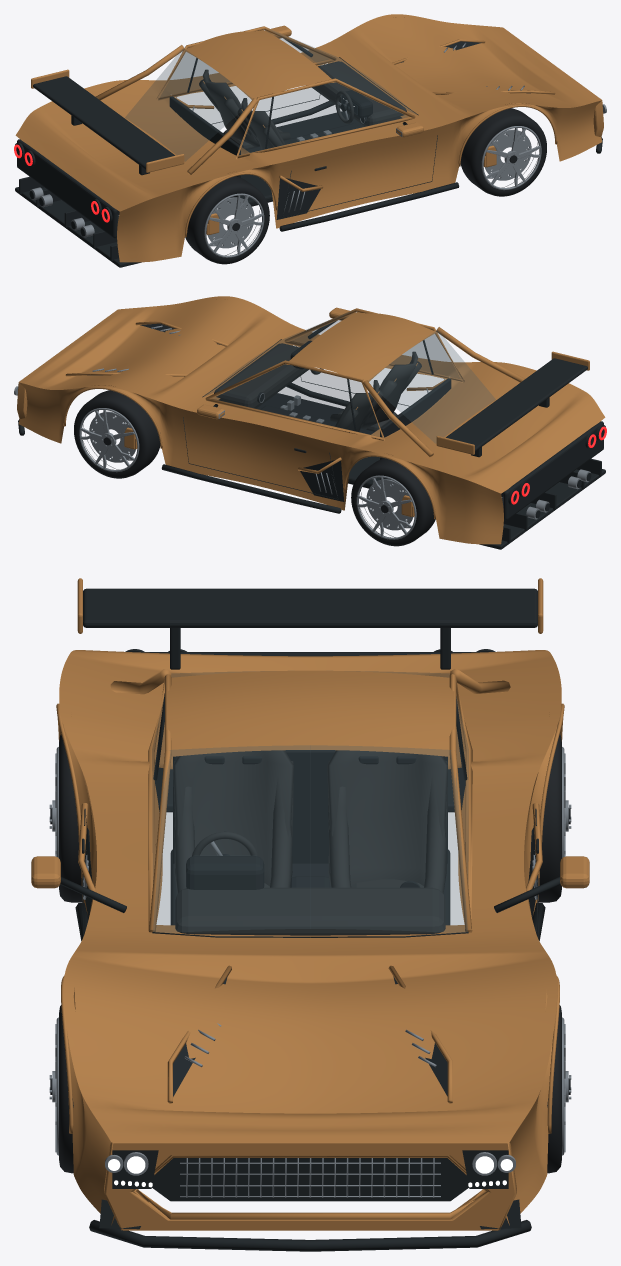
Rendered from car_bronze.glb.
3 renders of one model, top to bottom at view 1: azimuth 30°, elevation 25°; view 2: azimuth 150°, elevation 25°; view 3: azimuth 270°, elevation 25°, orthographic. The views are drawn at different scales.
Parts seen in each view (by area): view 1: CarBody, Hood, Door_Right, Wheel_Front_Right, RearWing, Wheel_Rear_Right; view 2: CarBody, Hood, Door_Left, Wheel_Front_Left, RearWing, Wheel_Rear_Left; view 3: CarBody, Hood, RearWing, Wheel_Rear_Left, Wheel_Rear_Right, Wheel_Front_Left, Wheel_Front_Right.
Part boxes in pixels (x1,y1,x2,y2): CarBody: (14, 17, 606, 267); Hood: (319, 14, 601, 128); Door_Right: (282, 128, 435, 224); Wheel_Front_Right: (460, 108, 546, 196); RearWing: (31, 69, 184, 175); Wheel_Rear_Right: (185, 176, 269, 264); CarBody: (14, 299, 606, 549); Hood: (19, 296, 301, 410); Door_Left: (185, 410, 338, 506); Wheel_Front_Left: (74, 390, 160, 478); RearWing: (436, 351, 589, 457); Wheel_Rear_Left: (351, 458, 435, 546); CarBody: (31, 649, 589, 1251); Hood: (63, 930, 557, 1142); RearWing: (77, 578, 543, 669); Wheel_Rear_Left: (538, 734, 571, 902); Wheel_Rear_Right: (49, 734, 82, 902); Wheel_Front_Left: (547, 1005, 571, 1173); Wheel_Front_Right: (49, 1005, 73, 1173).
Bounding box in the file's own units: 4.94 × 1.3 × 2.36.
